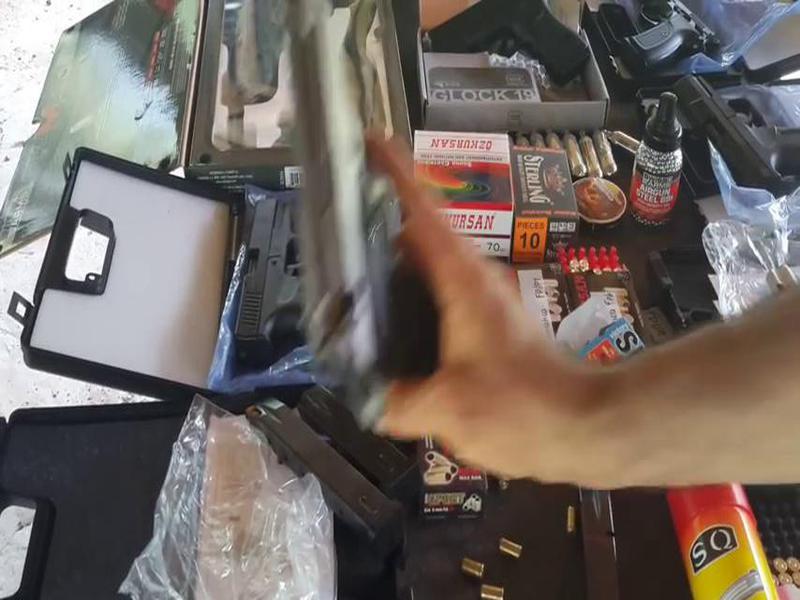Pistola: (267, 14, 474, 396)
